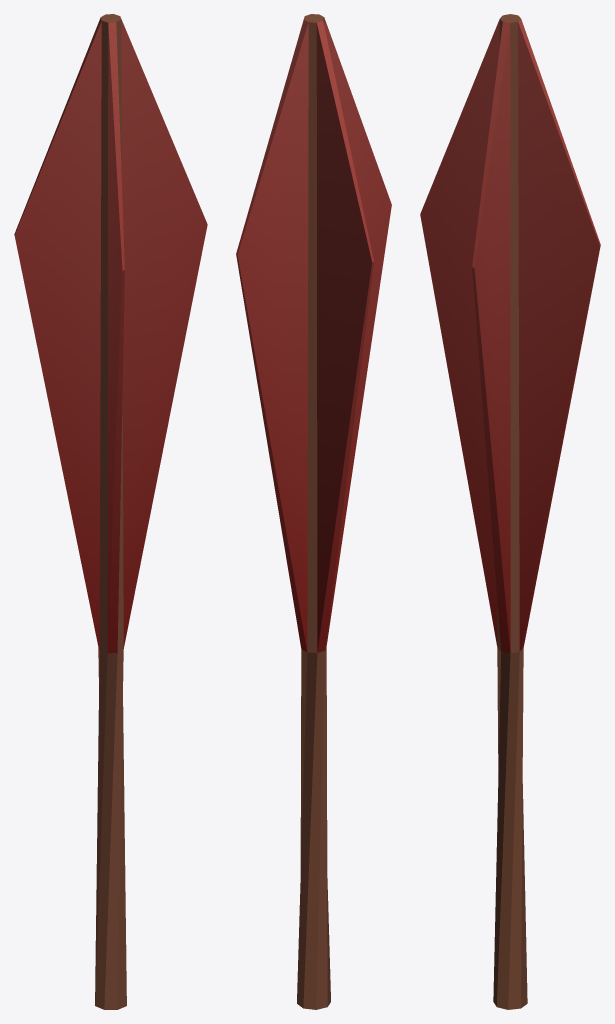
File: Tree_29_gradient_red_vc.fbx
The picture shows the model from 3 angles, left to right: view 1: azimuth 30°, elevation 25°; view 2: azimuth 150°, elevation 25°; view 3: azimuth 270°, elevation 25°; orthographic projection.
Parts seen in each view (by area): view 1: Tree_29_gradient_red_vc; view 2: Tree_29_gradient_red_vc; view 3: Tree_29_gradient_red_vc.
Boxes of the visible parts, bbox=[...] form: Tree_29_gradient_red_vc: bbox=[14, 14, 207, 1009]; Tree_29_gradient_red_vc: bbox=[236, 14, 391, 1009]; Tree_29_gradient_red_vc: bbox=[420, 14, 600, 1009].
Bounding box in the file's own units: 48.99 × 294 × 48.99.
